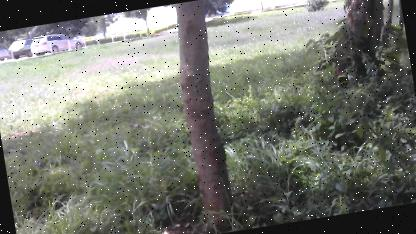car: (26, 27, 86, 61)
tree: (158, 0, 248, 226)
